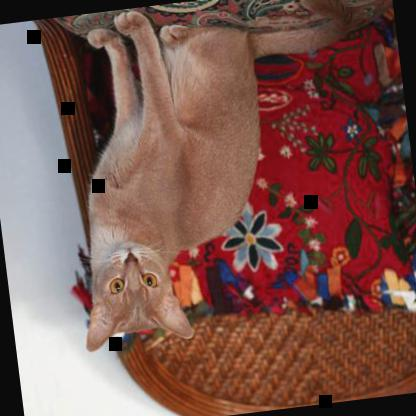cat: (45, 0, 288, 354)
